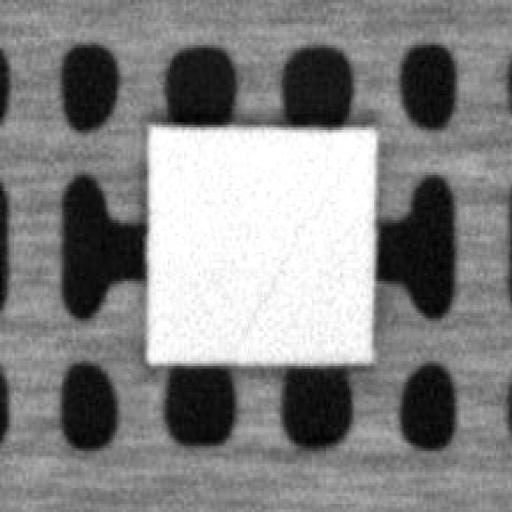DIE_CRACK: (240, 141, 362, 334)
